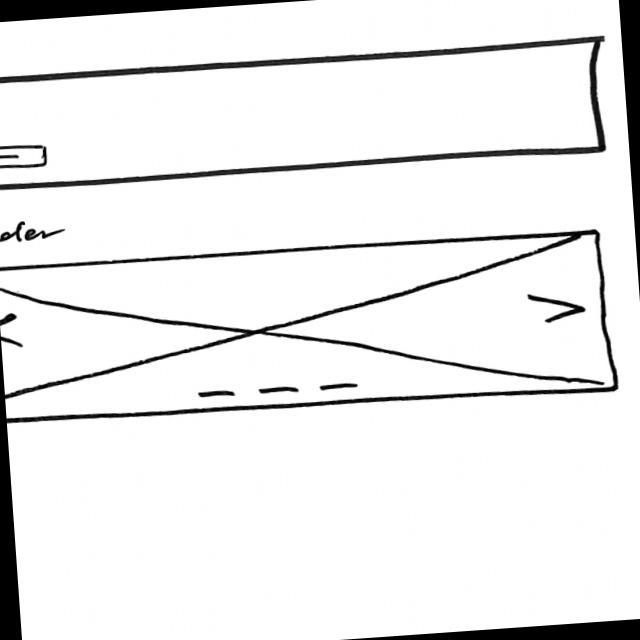container: (0, 33, 607, 197)
icon-button: (0, 138, 49, 169)
image: (0, 221, 617, 434)
label: (0, 219, 65, 246)
